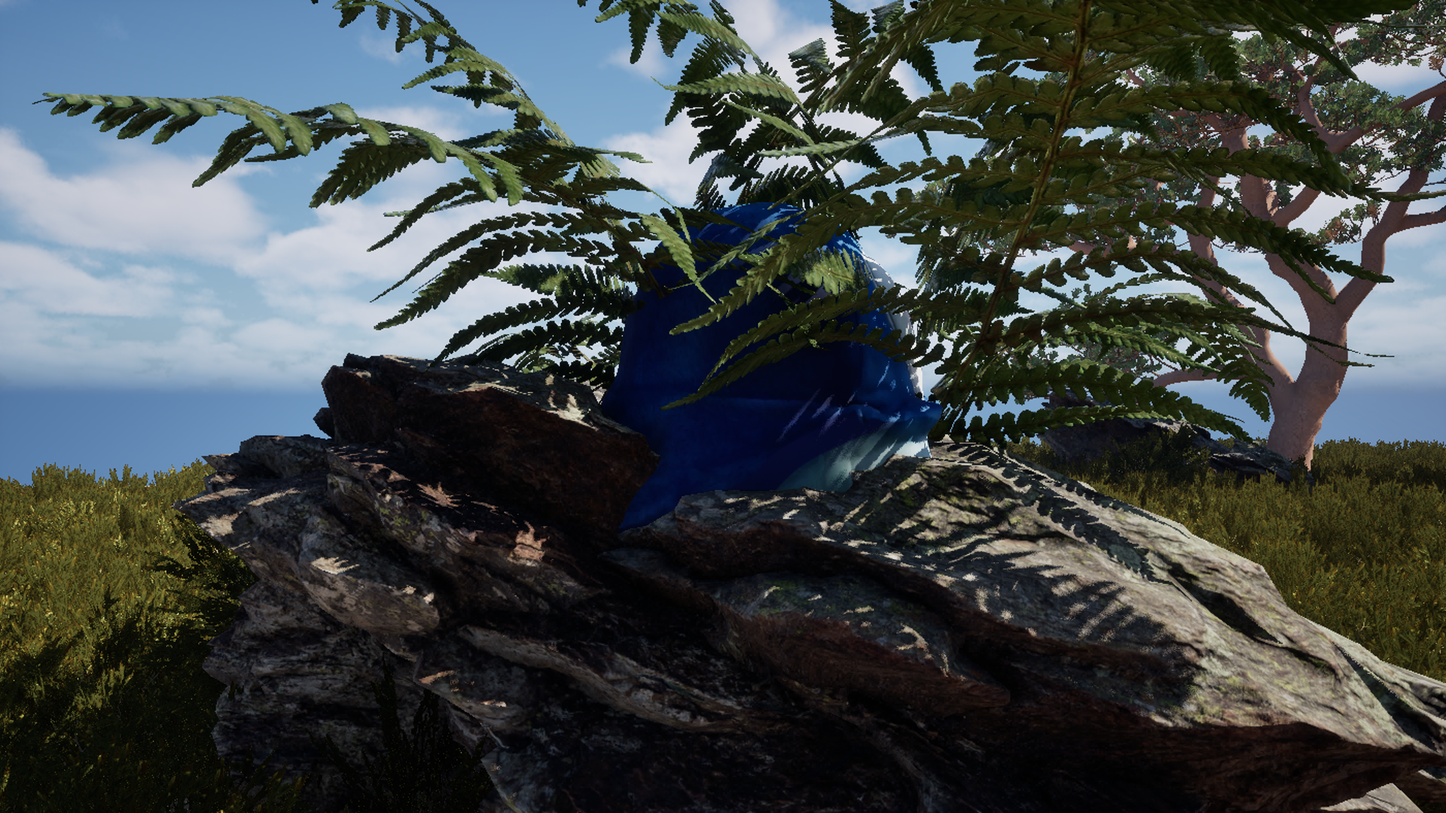Piplup: (328, 85, 1076, 728)
